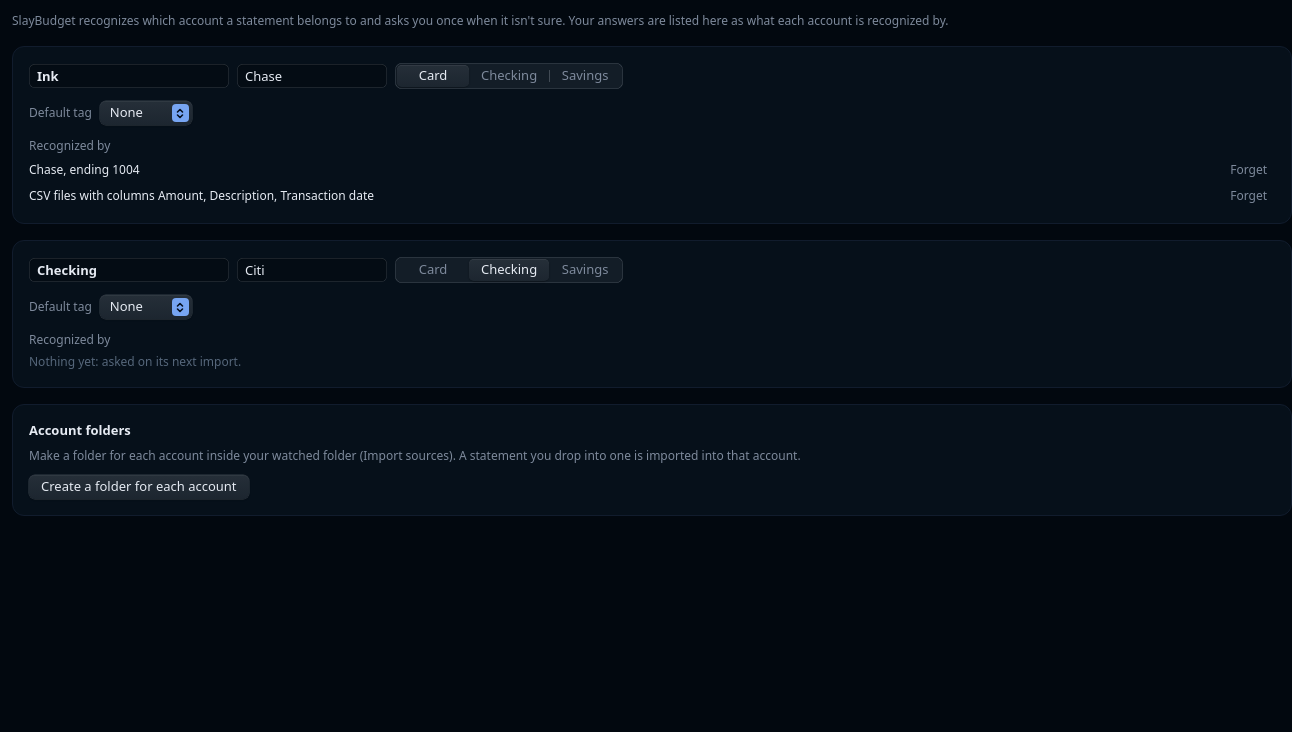
Scenario: AccountsPane › says what each account is recognized by, and forgets one
Expected: the list named "Recognized by" shows "Chase, ending 1004", [29,161,140,178]
Expected: the list named "Recognized by" shows "CSV files with columns Amount, Description, Transaction date", [29,187,374,204]
Click the button with aria-label "Forget Chase, ending 1004".
click(1249, 170)  # box [1222,159,1275,181]
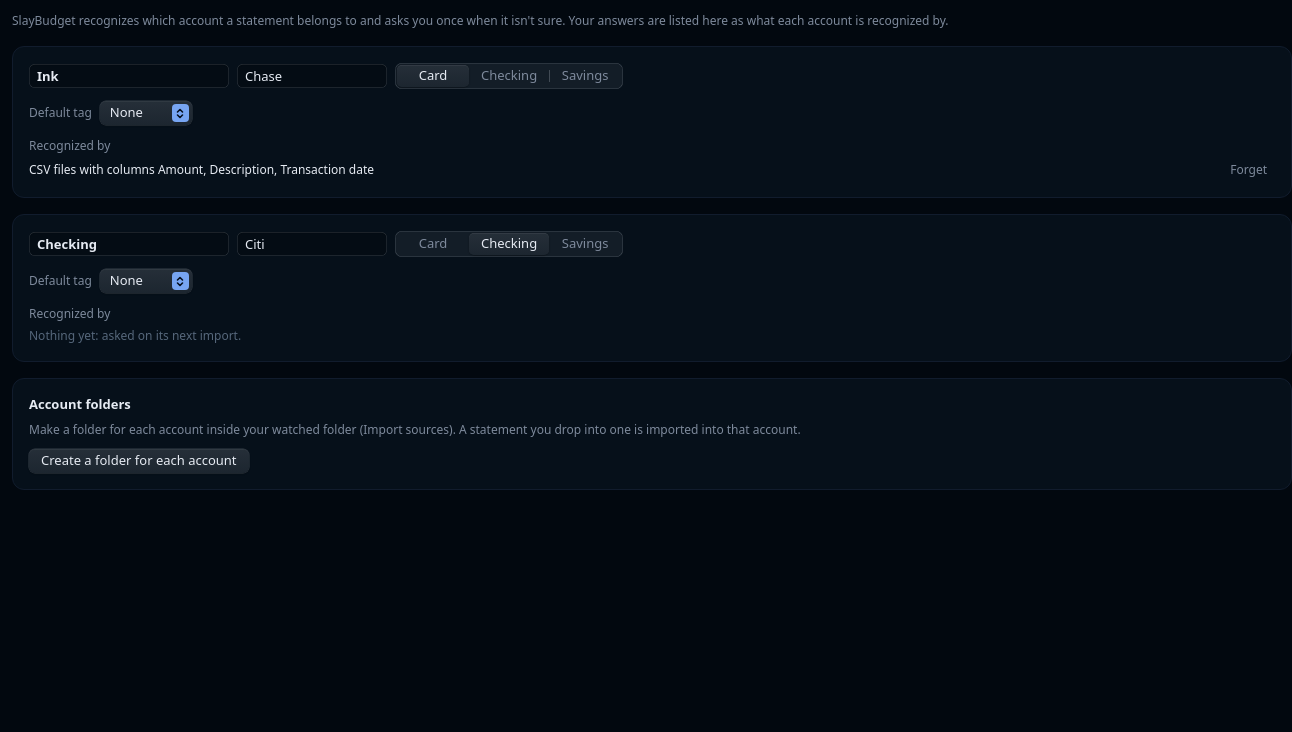
Expected: the text "Nothing yet: asked on its next import." is shown, [29,327,241,344]
Now the number of list items is 1, box [29,159,1275,181]
